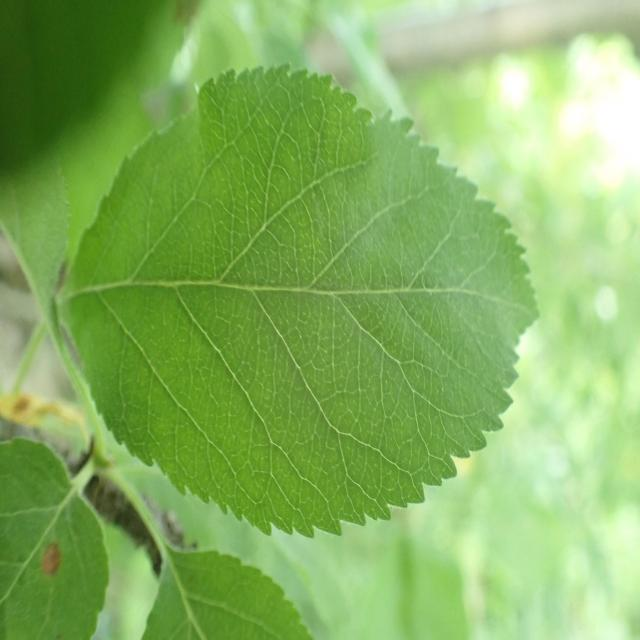frog-eye-leaf-spot: (64, 62, 542, 538), (0, 436, 110, 640)
